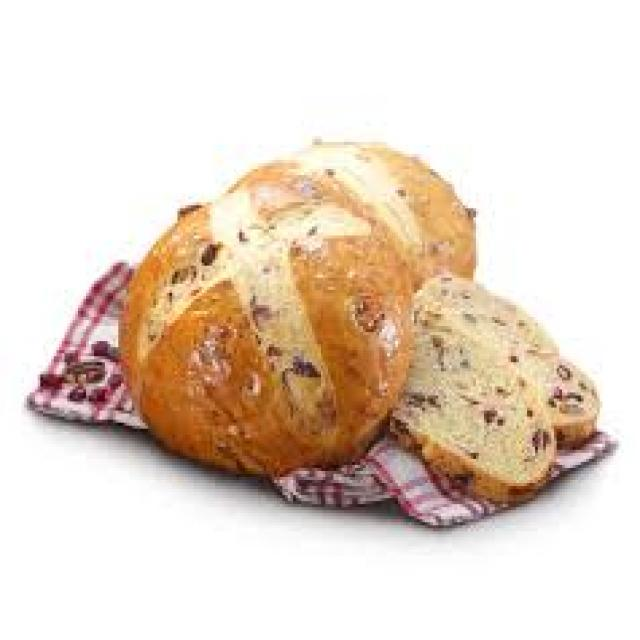organic waste: (116, 175, 414, 468), (387, 266, 597, 495), (231, 142, 476, 281), (62, 356, 113, 386), (65, 384, 86, 398), (56, 347, 78, 359), (83, 384, 105, 396), (100, 368, 116, 384), (32, 368, 51, 381), (83, 335, 105, 344), (100, 344, 121, 353)
